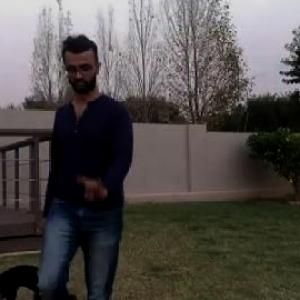takeoff-hand: (74, 171, 115, 210)
